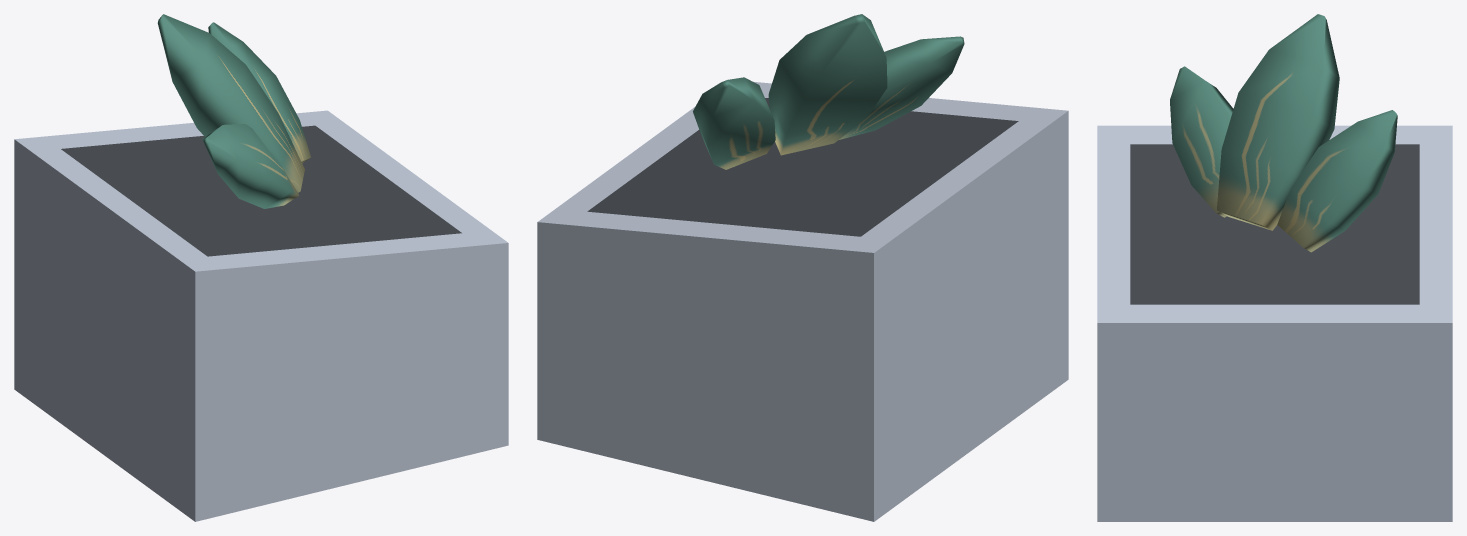
The model's file is BoxSeed_Green.fbx.
3 renders of one model, left to right at view 1: azimuth 30°, elevation 25°; view 2: azimuth 150°, elevation 25°; view 3: azimuth 270°, elevation 25°, orthographic. The views are drawn at different scales.
Visible parts, largest first — view 1: SeedBoxTemplate:pCube1, All_plant:SeedGreen:pasted__pCube2; view 2: SeedBoxTemplate:pCube1, All_plant:SeedGreen:pasted__pCube2; view 3: SeedBoxTemplate:pCube1, All_plant:SeedGreen:pasted__pCube2.
Boxes of the visible parts, x1,y1,x2,y2 form: SeedBoxTemplate:pCube1: (14,110,508,521); All_plant:SeedGreen:pasted__pCube2: (157,14,311,208); SeedBoxTemplate:pCube1: (537,81,1068,521); All_plant:SeedGreen:pasted__pCube2: (693,14,964,169); SeedBoxTemplate:pCube1: (1097,125,1452,521); All_plant:SeedGreen:pasted__pCube2: (1170,14,1397,252).
Size of the model in its own units: 4.54 by 5.58 by 4.54.
